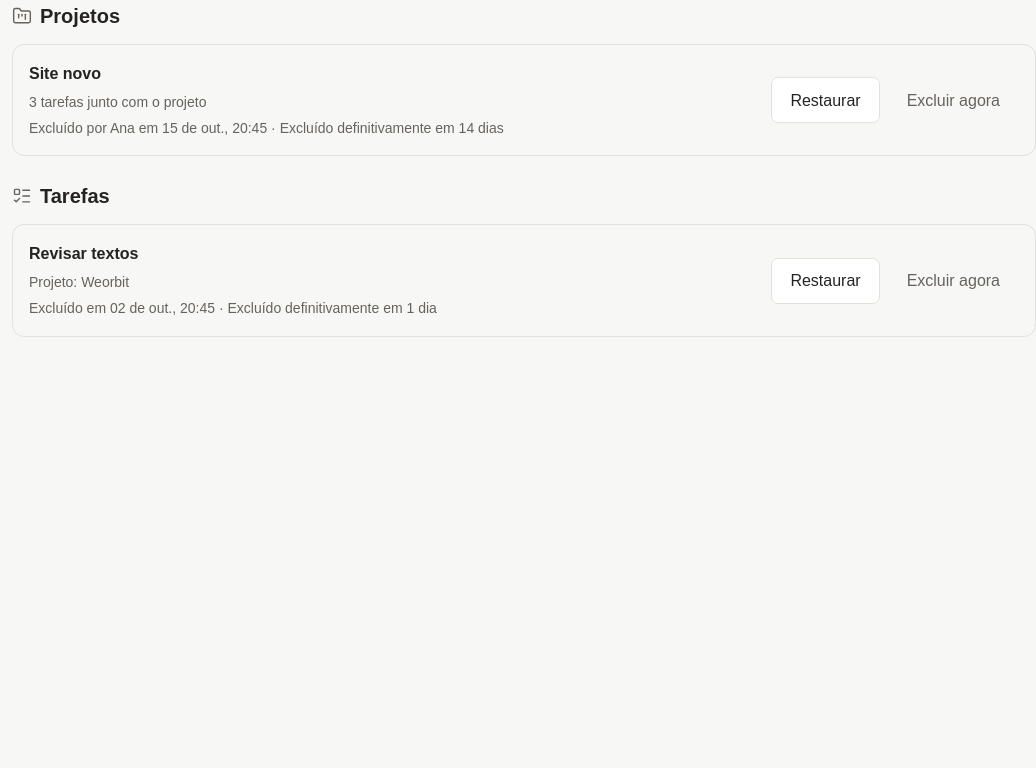
Scenario: shows refused changes
Click the button with aria-label "Restaurar Revisar textos".
click(826, 281)  # box [771,258,880,304]
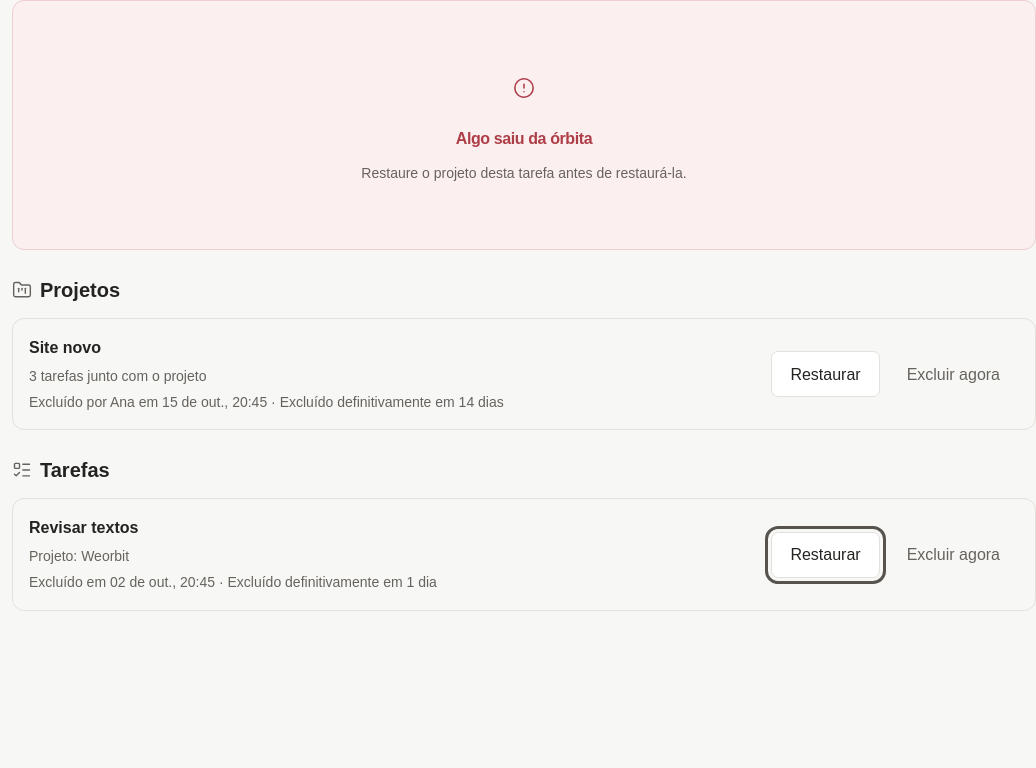
Result: the message shows "Restaure o projeto" at [361,165,687,181]
